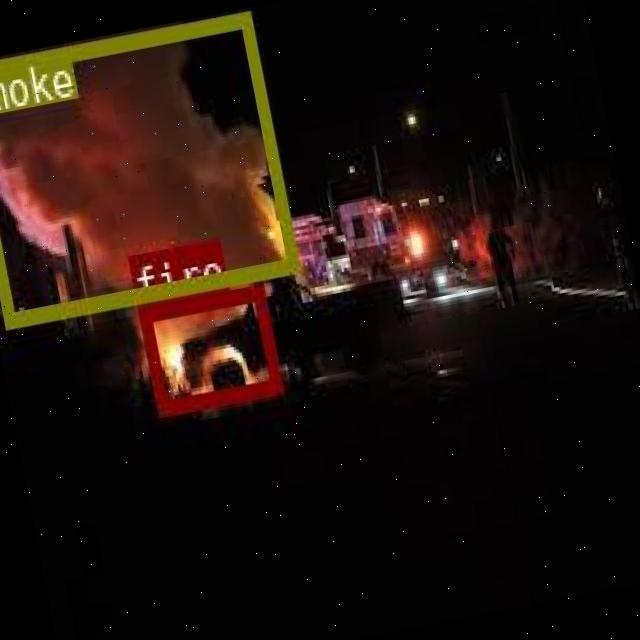fire: (136, 283, 280, 413)
smoke: (0, 11, 296, 324)
